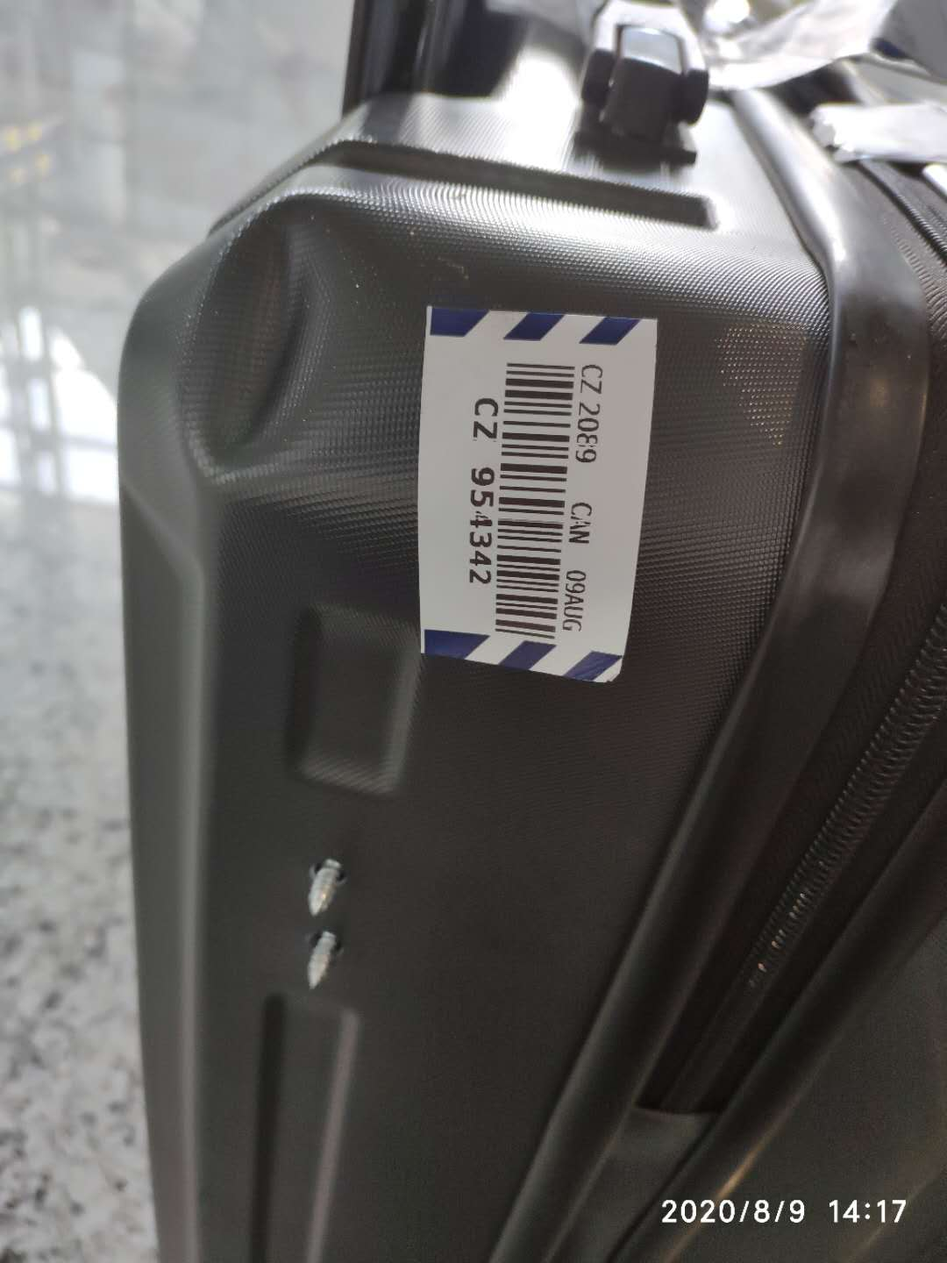rupture: (175, 190, 348, 483)
